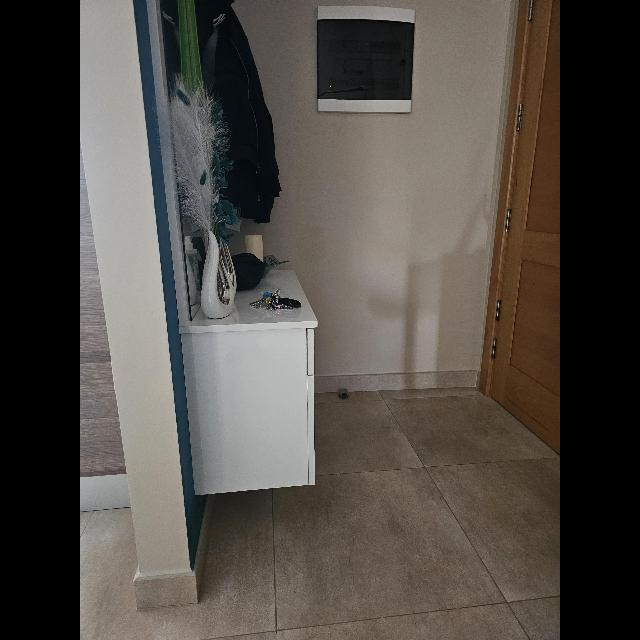Keys: (249, 290, 299, 316)
